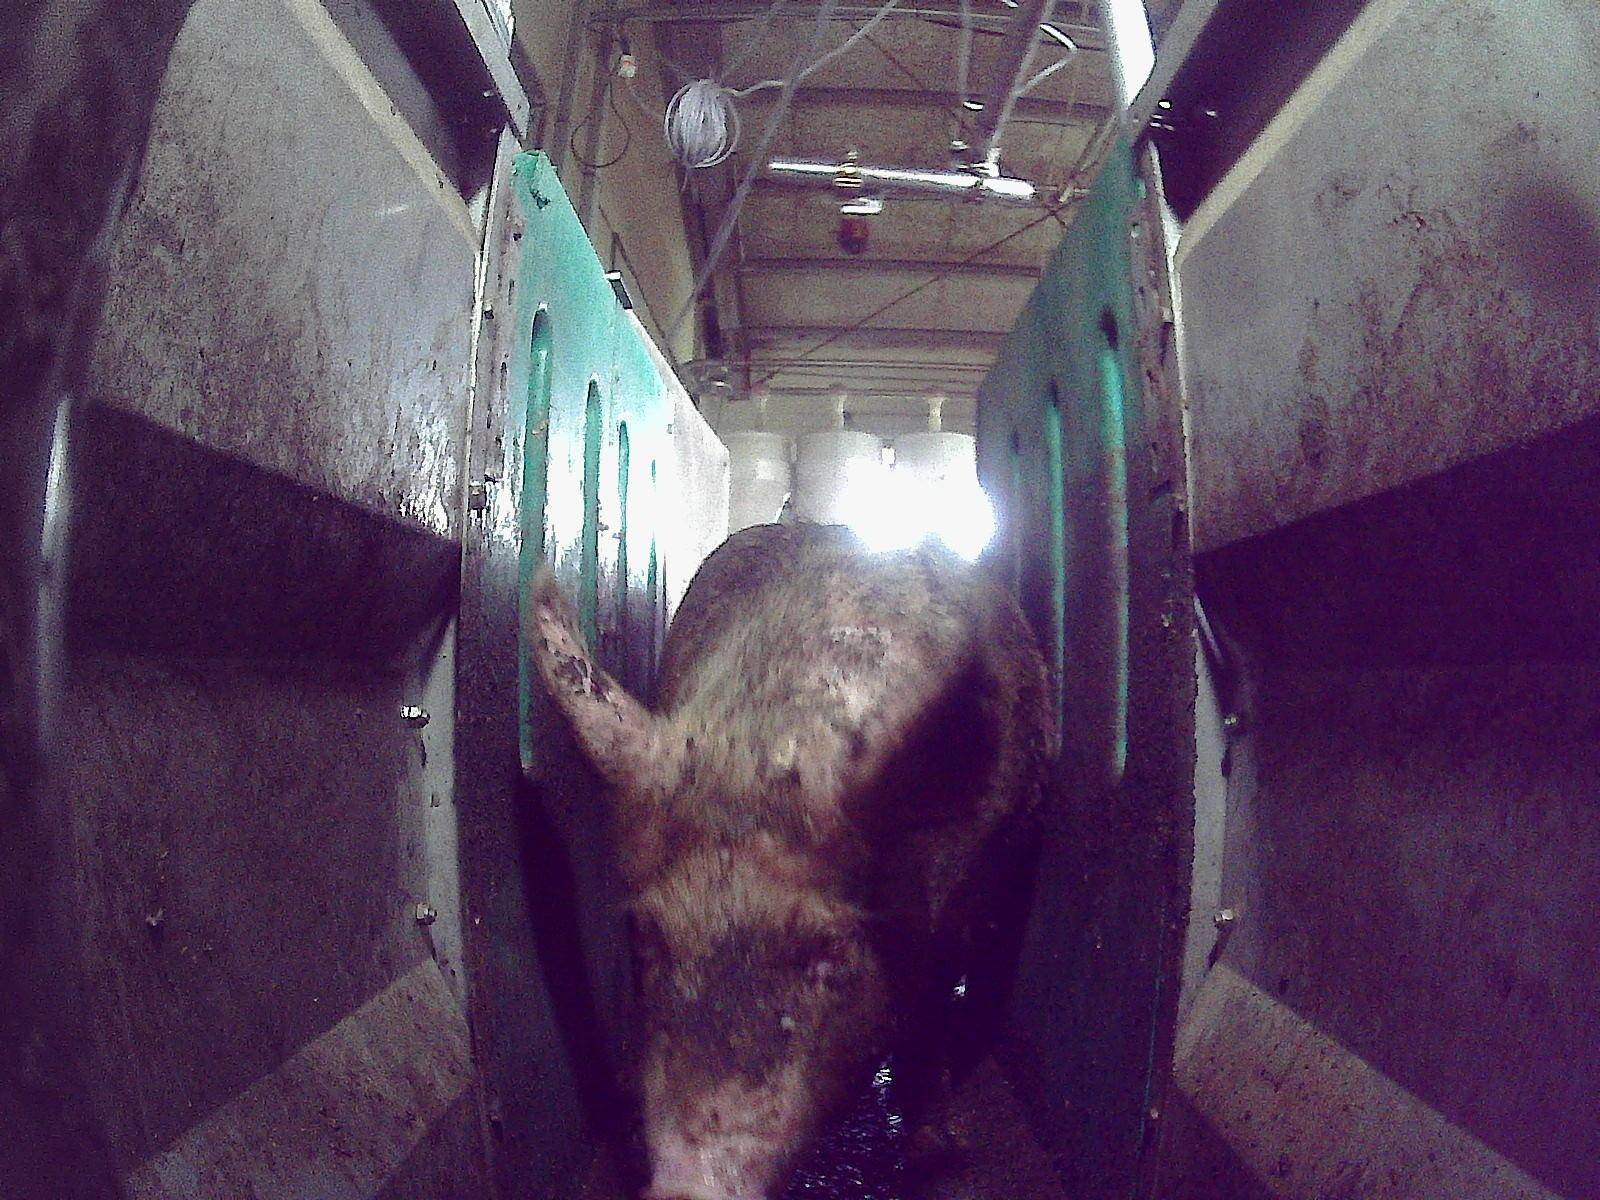Face: (612, 767, 904, 1199)
